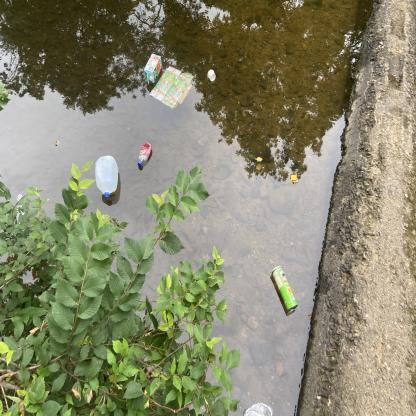trash: (150, 60, 197, 115), (267, 262, 303, 318), (93, 150, 123, 210), (140, 47, 162, 89), (237, 398, 280, 416), (134, 138, 154, 173), (204, 63, 220, 84)
